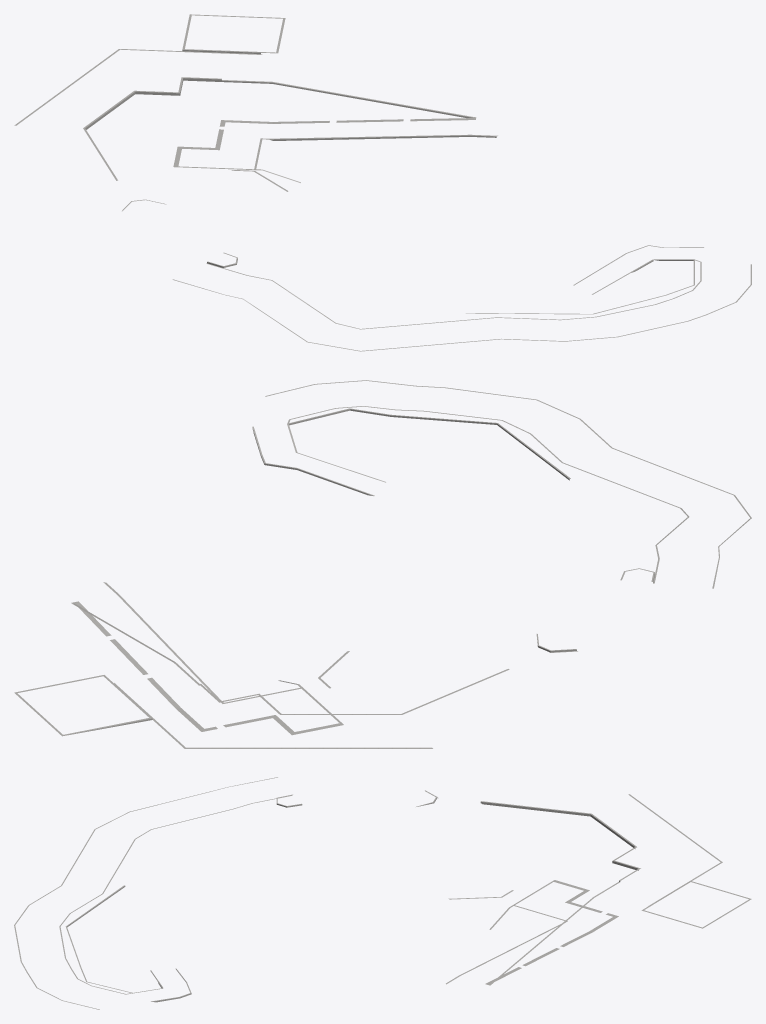
File: kd_stage_136282_5_8.glb
3 renders of one model, top to bottom at view 1: azimuth 30°, elevation 25°; view 2: azimuth 150°, elevation 25°; view 3: azimuth 270°, elevation 25°, orthographic. The views are drawn at different scales.
Parts seen in each view (by area): view 1: kd_stage_136282_5_8; view 2: kd_stage_136282_5_8; view 3: kd_stage_136282_5_8.
Part boxes in pixels (bbox=[...]): kd_stage_136282_5_8: bbox=[14, 14, 751, 351]; kd_stage_136282_5_8: bbox=[14, 380, 751, 748]; kd_stage_136282_5_8: bbox=[14, 777, 751, 1009].
Bounding box in the file's own units: 79.2 × 8.2 × 119.
Materials: 1 (1 with a texture image).
